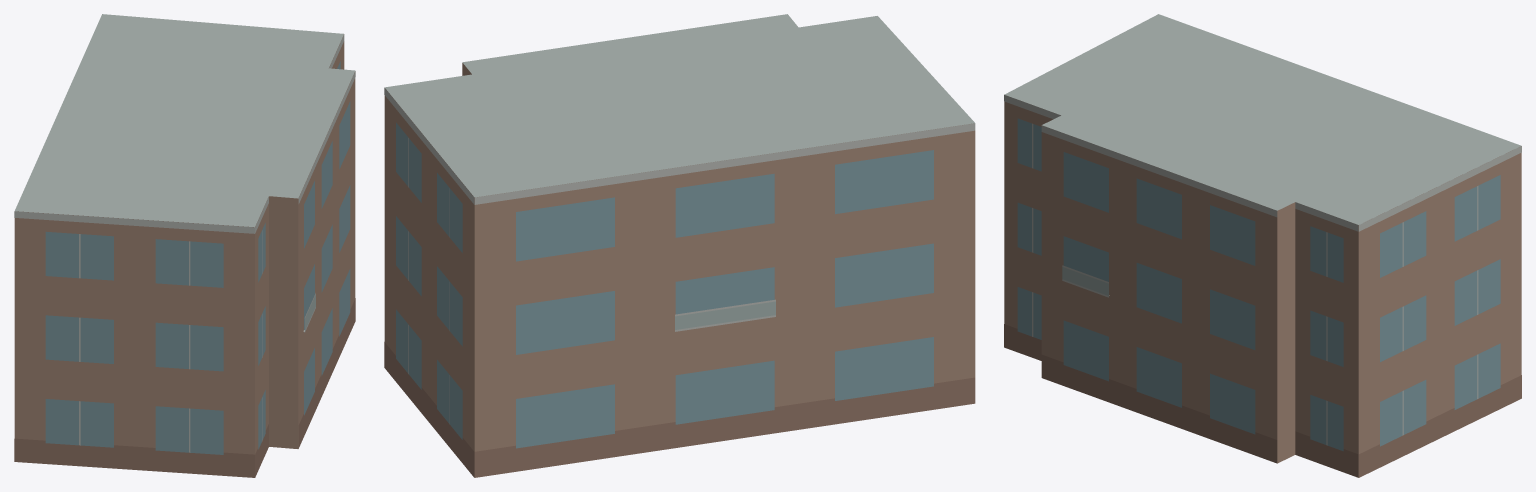
Rendered from survey-upis-32699834.glb.
The picture shows the model from 3 angles, left to right: view 1: azimuth 30°, elevation 25°; view 2: azimuth 150°, elevation 25°; view 3: azimuth 270°, elevation 25°; orthographic projection. The views are drawn at different scales.
Parts seen in each view (by area): view 1: survey-upis-32699834.tmp; view 2: survey-upis-32699834.tmp; view 3: survey-upis-32699834.tmp.
Part boxes in pixels (x1,y1,x2,y2): survey-upis-32699834.tmp: (14,14,355,477); survey-upis-32699834.tmp: (384,14,975,477); survey-upis-32699834.tmp: (1004,14,1521,477).
Bounding box in the file's own units: 16.4 × 9.15 × 16.99.
